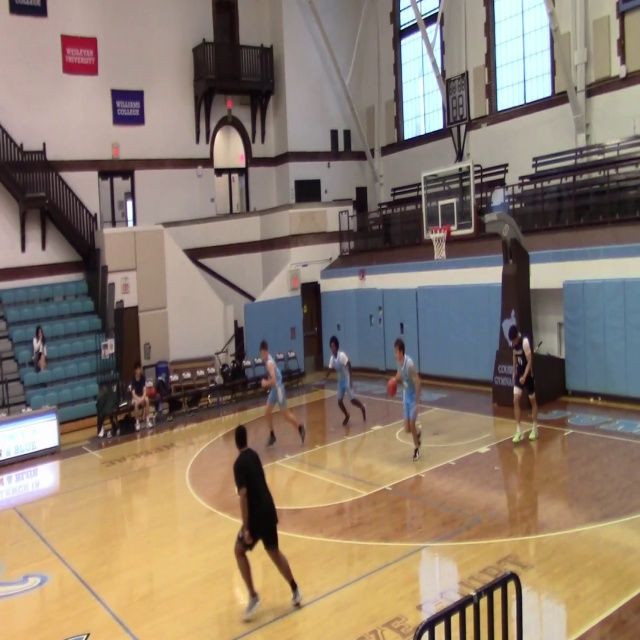Basketball: (387, 377, 397, 397)
